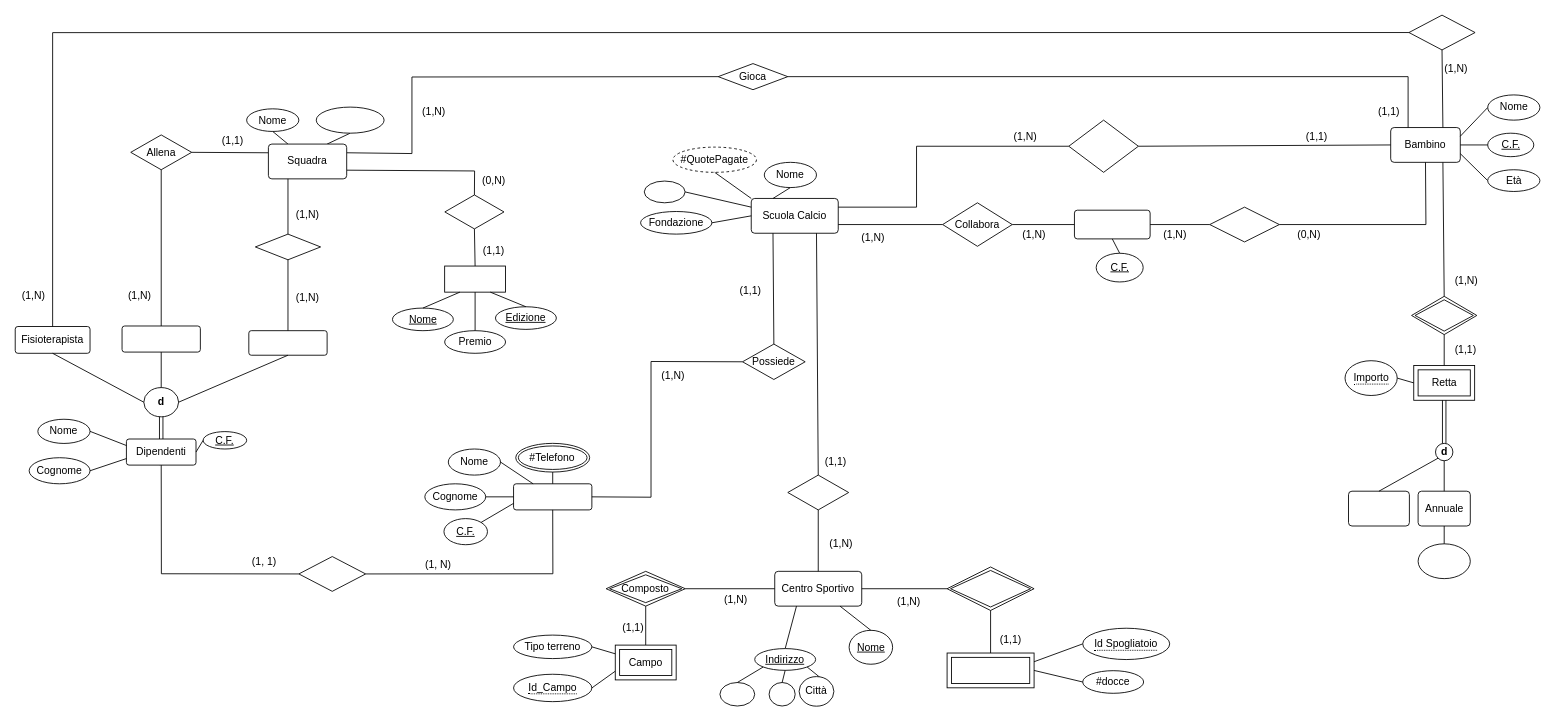
The diagram is 1556 pixels wide and 722 high, and some of its shapes have lost their labels. The shapes that lost their labels are listed below. From the top down, each one's centre as x and y in pixels, then its label:
pixel 1441 32: Cura
pixel 349 119: Età bambini
pixel 1103 145: Iscritto
pixel 474 211: Vince
pixel 664 191: P. IVA
pixel 1112 224: Medico Sportivo
pixel 1244 224: Visita
pixel 287 246: Prepara
pixel 475 278: Torneo
pixel 1444 315: Paga
pixel 160 338: Allenatore
pixel 287 342: Preparatore Atletico
pixel 552 496: Presidente
pixel 818 492: Utilizza
pixel 1378 508: Mensile
pixel 332 573: Stipendia
pixel 1443 561: Sconto
pixel 990 588: Dispone di
pixel 990 670: Spogliatoio
pixel 737 694: Civico
pixel 781 694: Via
